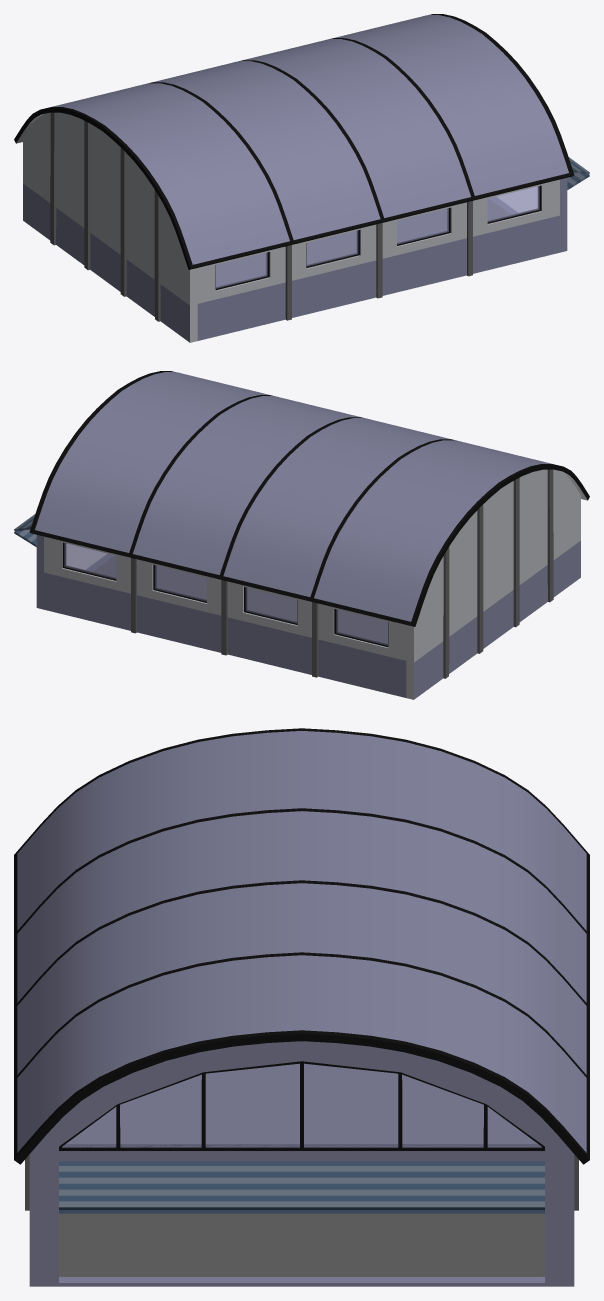
File: airport-hangar.glb
The picture shows the model from 3 angles, top to bottom: view 1: azimuth 30°, elevation 25°; view 2: azimuth 150°, elevation 25°; view 3: azimuth 270°, elevation 25°; orthographic projection. The views are drawn at different scales.
Parts seen in each view (by area): view 1: 04.Hangar_AIRPORT_0; view 2: 04.Hangar_AIRPORT_0; view 3: 04.Hangar_AIRPORT_0.
Part boxes in pixels (<box>): 04.Hangar_AIRPORT_0: <box>14,14,589,342</box>; 04.Hangar_AIRPORT_0: <box>14,371,589,699</box>; 04.Hangar_AIRPORT_0: <box>14,728,589,1286</box>.
Bounding box in the file's own units: 68.2 × 24.66 × 50.5.
Materials: 1 (1 with a texture image).
